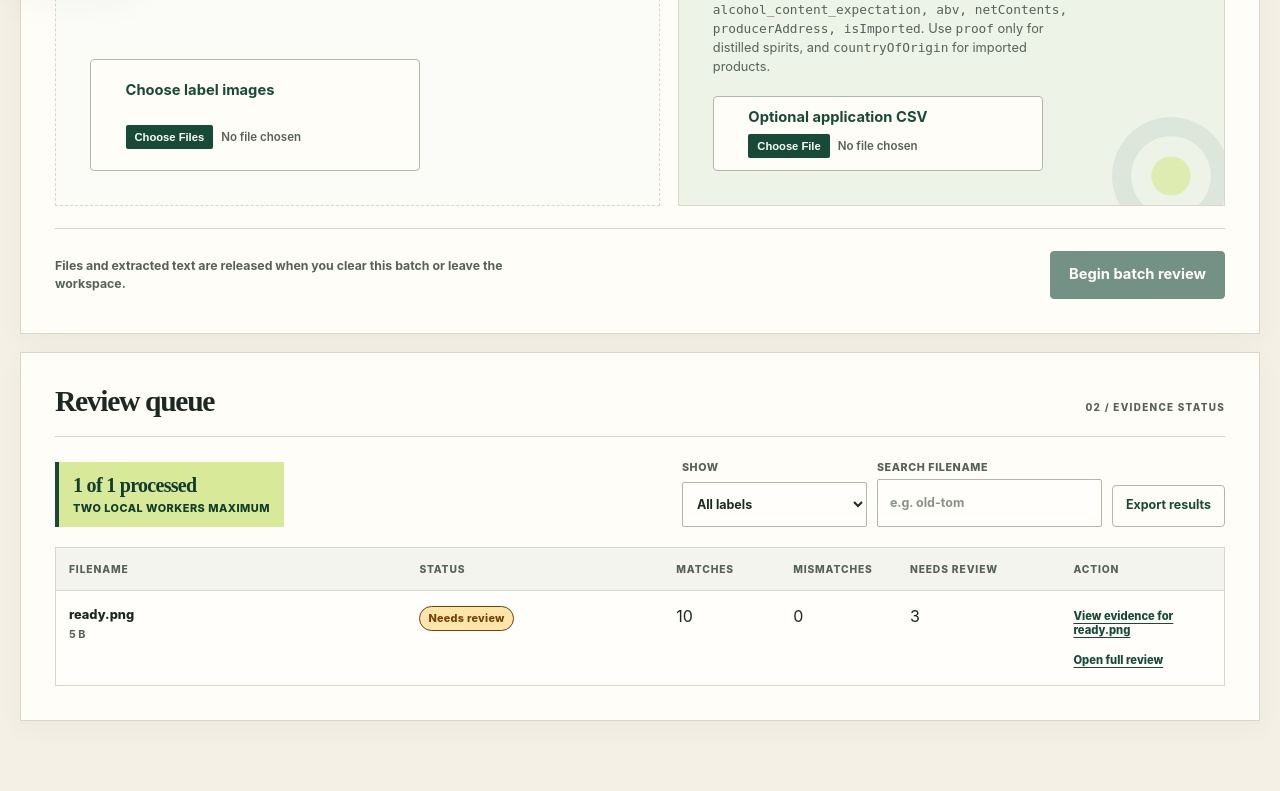
Test case: opens a ready batch row in full review without re-running OCR
(page scrolled)
What coordinates should you click on to do the following:
click the button with aria-label "open full review for ready.png"
I would click on:
 (1118, 660)
Its box is [1074,650,1163,670].
(page scrolled)
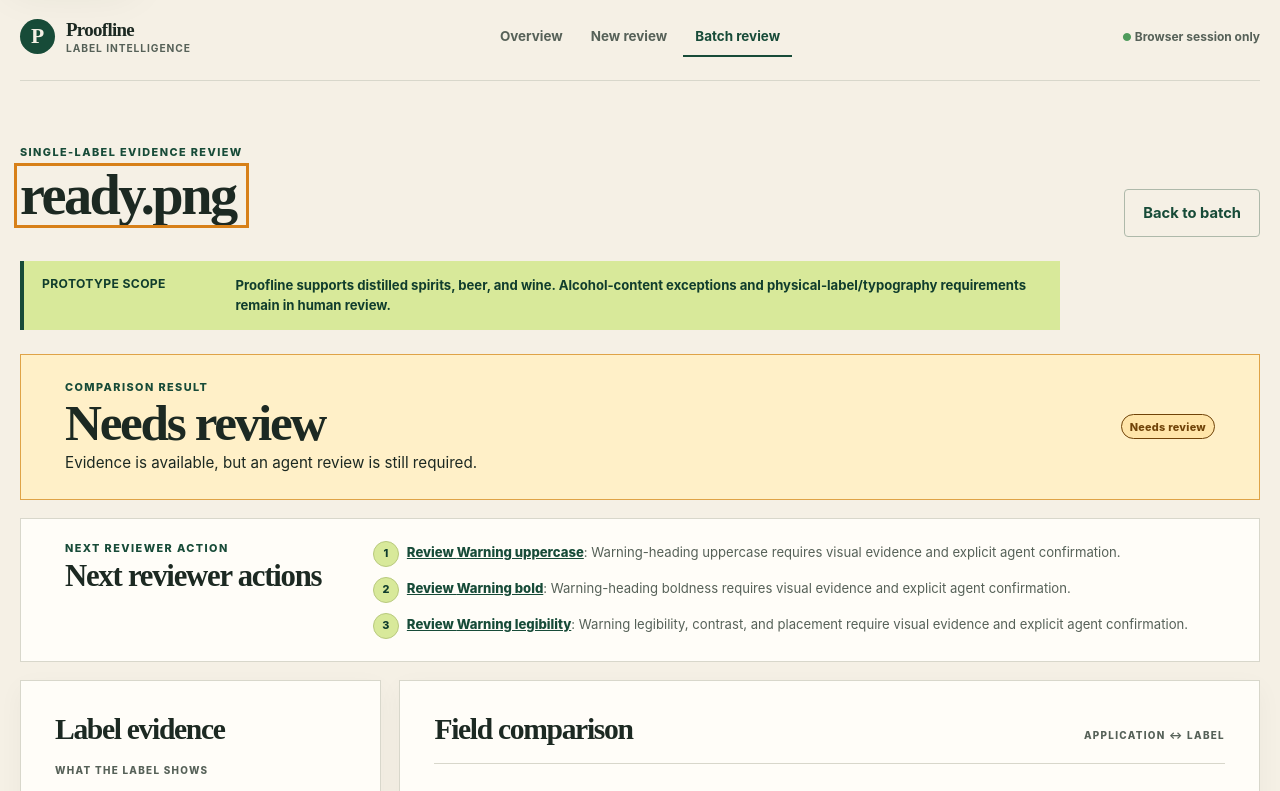
Result: the button "Back to batch" is shown at [1124,190,1260,238]
